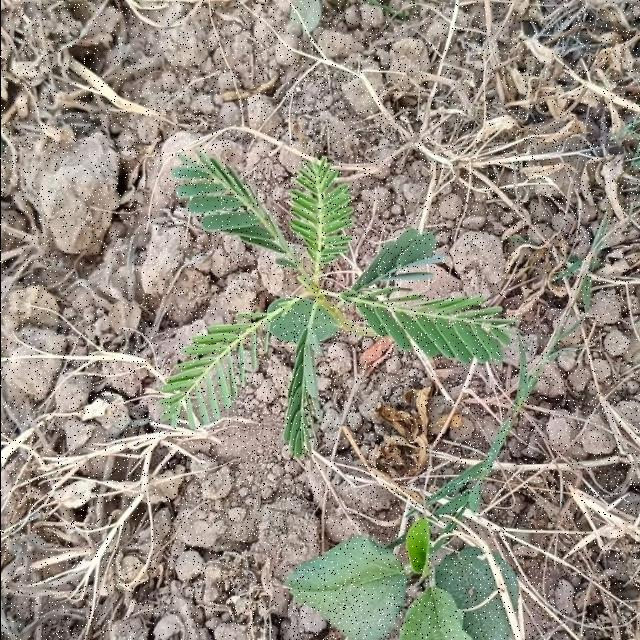plant: (160, 153, 514, 456)
